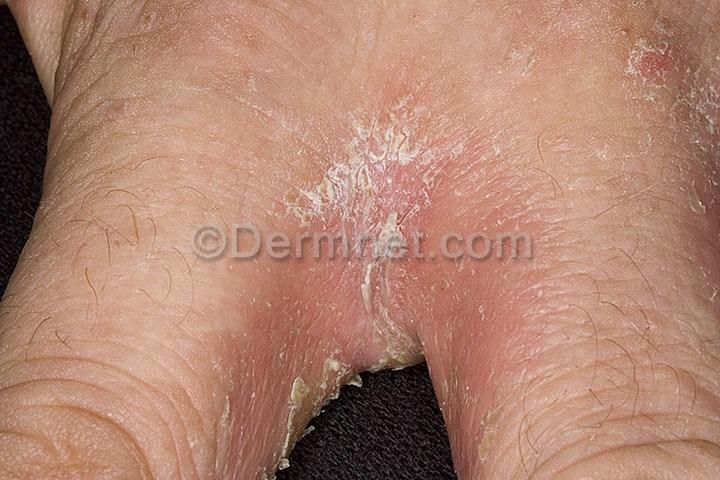Eczema: (261, 35, 466, 269), (617, 0, 720, 242), (461, 130, 585, 269), (264, 260, 414, 372), (416, 270, 524, 415), (193, 358, 278, 480)
